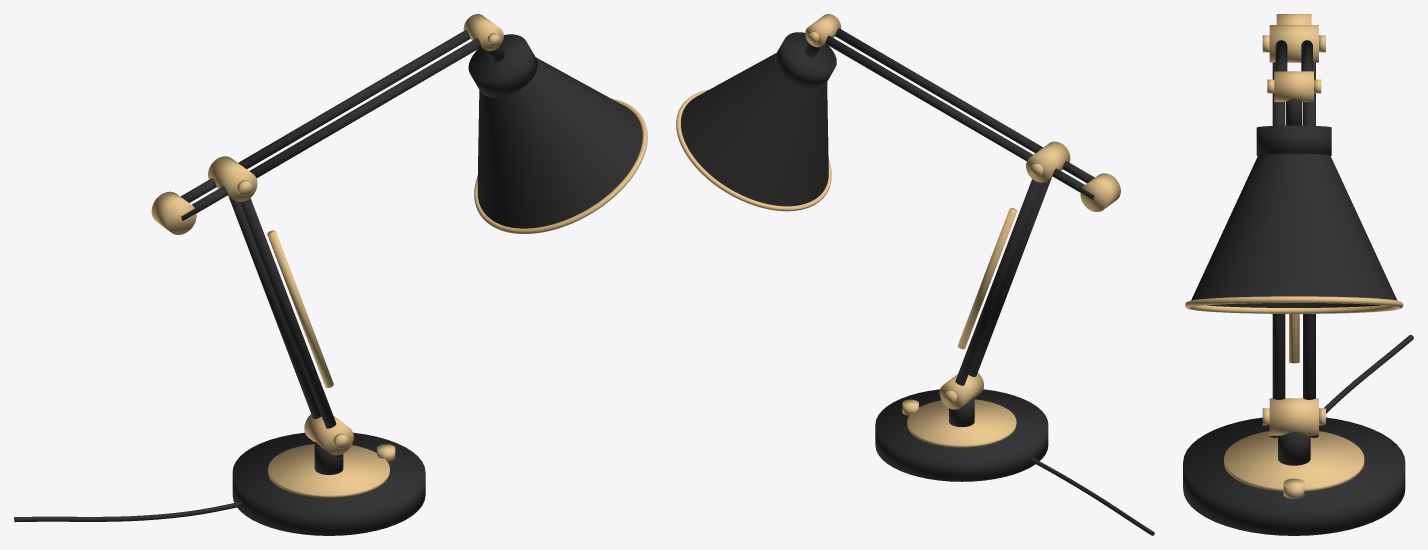
The model's file is lamp.glb.
3 renders of one model, left to right at view 1: azimuth 30°, elevation 25°; view 2: azimuth 150°, elevation 25°; view 3: azimuth 270°, elevation 25°, orthographic. The views are drawn at different scales.
Visible parts, largest first — view 1: Abajur, Taban, Taban_Halka, Abajur_Kapak, Alt_Kol_-1, Ust_Kol_-1, Ust_Kol_1, Alt_Kol_1, Abajur_Kenar, Alt_Kol_Yay, Karsi_Agirlik, Mafsal_2 (+3 smaller); view 2: Abajur, Taban, Taban_Halka, Abajur_Kapak, Alt_Kol_1, Ust_Kol_1, Ust_Kol_-1, Alt_Kol_-1, Abajur_Kenar, Alt_Kol_Yay, Karsi_Agirlik, Mafsal_2 (+3 smaller); view 3: Abajur, Taban, Taban_Halka, Abajur_Kenar, Abajur_Kapak, Mafsal_1, Alt_Kol_-1, Alt_Kol_1, Mafsal_2, Mafsal_3, Taban_Direk, Kablo (+6 smaller).
Part boxes in pixels (bbox=[...]): Abajur: bbox=[477, 57, 642, 228]; Taban: bbox=[232, 432, 425, 535]; Taban_Halka: bbox=[268, 444, 389, 497]; Abajur_Kapak: bbox=[468, 34, 537, 97]; Alt_Kol_-1: bbox=[240, 198, 336, 428]; Ust_Kol_-1: bbox=[249, 38, 481, 178]; Ust_Kol_1: bbox=[238, 30, 470, 168]; Alt_Kol_1: bbox=[228, 196, 321, 418]; Abajur_Kenar: bbox=[474, 98, 647, 233]; Alt_Kol_Yay: bbox=[267, 230, 333, 387]; Karsi_Agirlik: bbox=[151, 191, 196, 234]; Mafsal_2: bbox=[208, 156, 257, 201]; Abajur: bbox=[681, 53, 828, 206]; Taban: bbox=[875, 389, 1048, 481]; Taban_Halka: bbox=[907, 399, 1016, 447]; Abajur_Kapak: bbox=[774, 32, 836, 88]; Alt_Kol_1: bbox=[955, 179, 1040, 385]; Ust_Kol_1: bbox=[825, 35, 1032, 161]; Ust_Kol_-1: bbox=[835, 28, 1042, 152]; Alt_Kol_-1: bbox=[968, 177, 1051, 376]; Abajur_Kenar: bbox=[676, 90, 831, 211]; Alt_Kol_Yay: bbox=[957, 208, 1016, 349]; Karsi_Agirlik: bbox=[1080, 173, 1120, 211]; Mafsal_2: bbox=[1026, 141, 1070, 182]; Abajur: bbox=[1191, 153, 1397, 307]; Taban: bbox=[1183, 417, 1405, 535]; Taban_Halka: bbox=[1224, 431, 1364, 491]; Abajur_Kenar: bbox=[1185, 296, 1403, 313]; Abajur_Kapak: bbox=[1256, 125, 1331, 155]; Mafsal_1: bbox=[1269, 398, 1318, 435]; Alt_Kol_-1: bbox=[1272, 62, 1285, 399]; Alt_Kol_1: bbox=[1303, 62, 1315, 399]; Mafsal_2: bbox=[1269, 25, 1318, 62]; Mafsal_3: bbox=[1274, 71, 1313, 101]; Taban_Direk: bbox=[1278, 432, 1310, 465]; Kablo: bbox=[1324, 335, 1413, 413].
Bounding box in the file's own units: 0.6475 × 0.475 × 0.1972.
